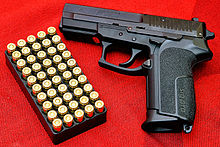pistol: (59, 1, 216, 135)
